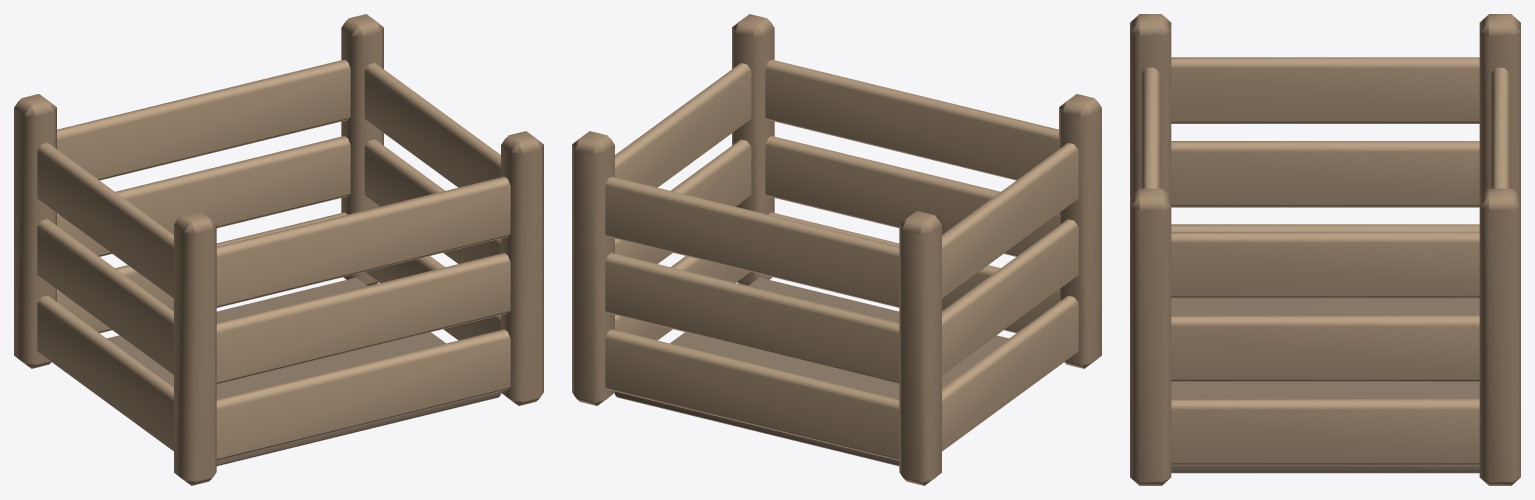
Rendered from compost_bin.gltf.
3 views of the same model, side by side, from view 1: azimuth 30°, elevation 25°; view 2: azimuth 150°, elevation 25°; view 3: azimuth 270°, elevation 25° (orthographic). The views are drawn at different scales.
Visible parts, largest first — view 1: compost_bin; view 2: compost_bin; view 3: compost_bin.
Part boxes in pixels (box(x1,y1,x2,y2)): compost_bin: box(14, 14, 543, 485); compost_bin: box(572, 14, 1101, 485); compost_bin: box(1130, 14, 1520, 485).
Size of the model in its own units: 1.43 by 1 by 1.23.
